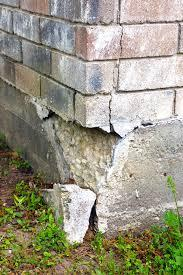spalling: (43, 108, 124, 193)
